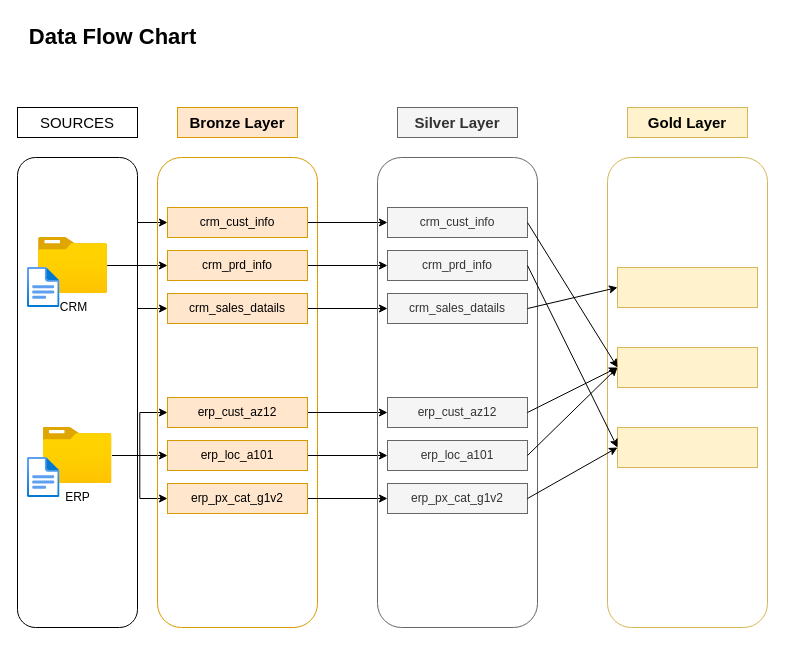
This 785x645 diagram has some shape labels left out. Each missing label, with the centre of its shape:
"dim_customers" goes at [687,367].
"dim_products" goes at [687,447].
"fact_sales" goes at [687,287].
